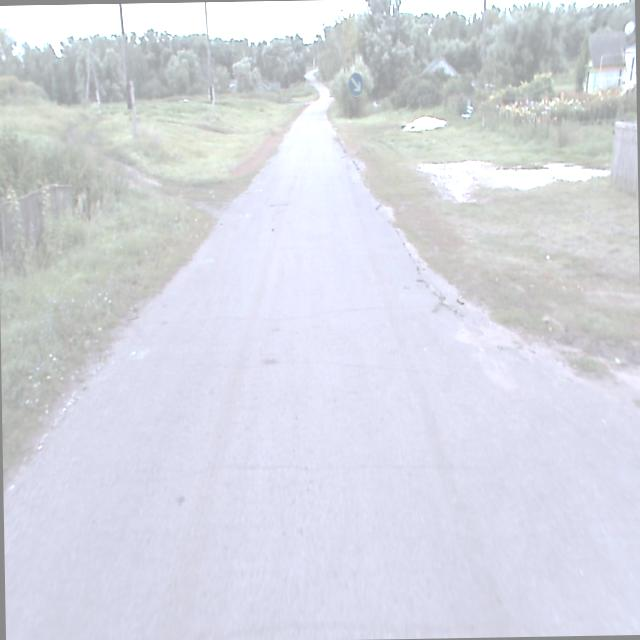road: (3, 106, 640, 640)
